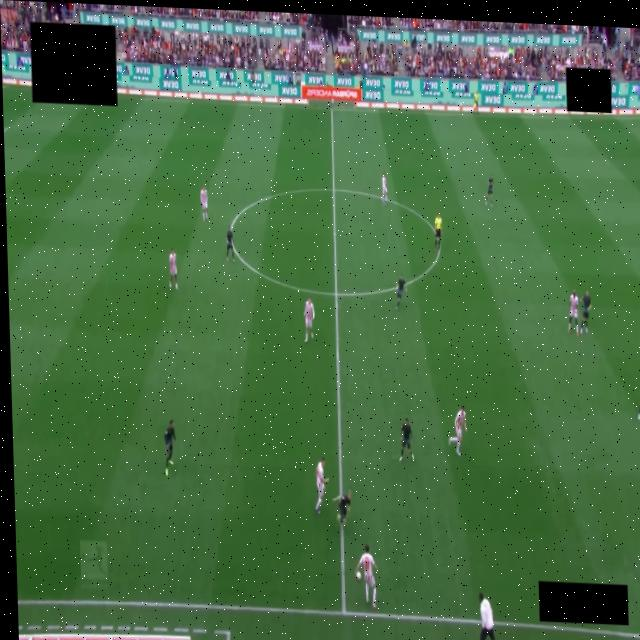ball: (355, 572, 362, 582)
player: (354, 545, 375, 608), (448, 406, 466, 456), (315, 457, 328, 514), (332, 491, 350, 526), (164, 420, 175, 476), (399, 418, 413, 461), (567, 290, 578, 335), (304, 299, 314, 342), (580, 291, 590, 333), (395, 274, 406, 309), (168, 248, 177, 289), (199, 186, 207, 220), (226, 228, 233, 261), (485, 174, 492, 206), (381, 173, 386, 203), (637, 404, 639, 420)
referee: (434, 213, 441, 250)
